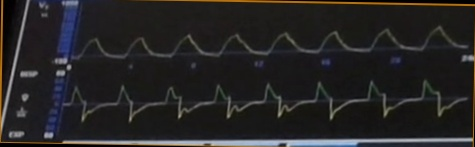Premature_cycling Flow: (65, 75, 468, 132)
Premature_cycling Volume: (76, 14, 464, 58)
